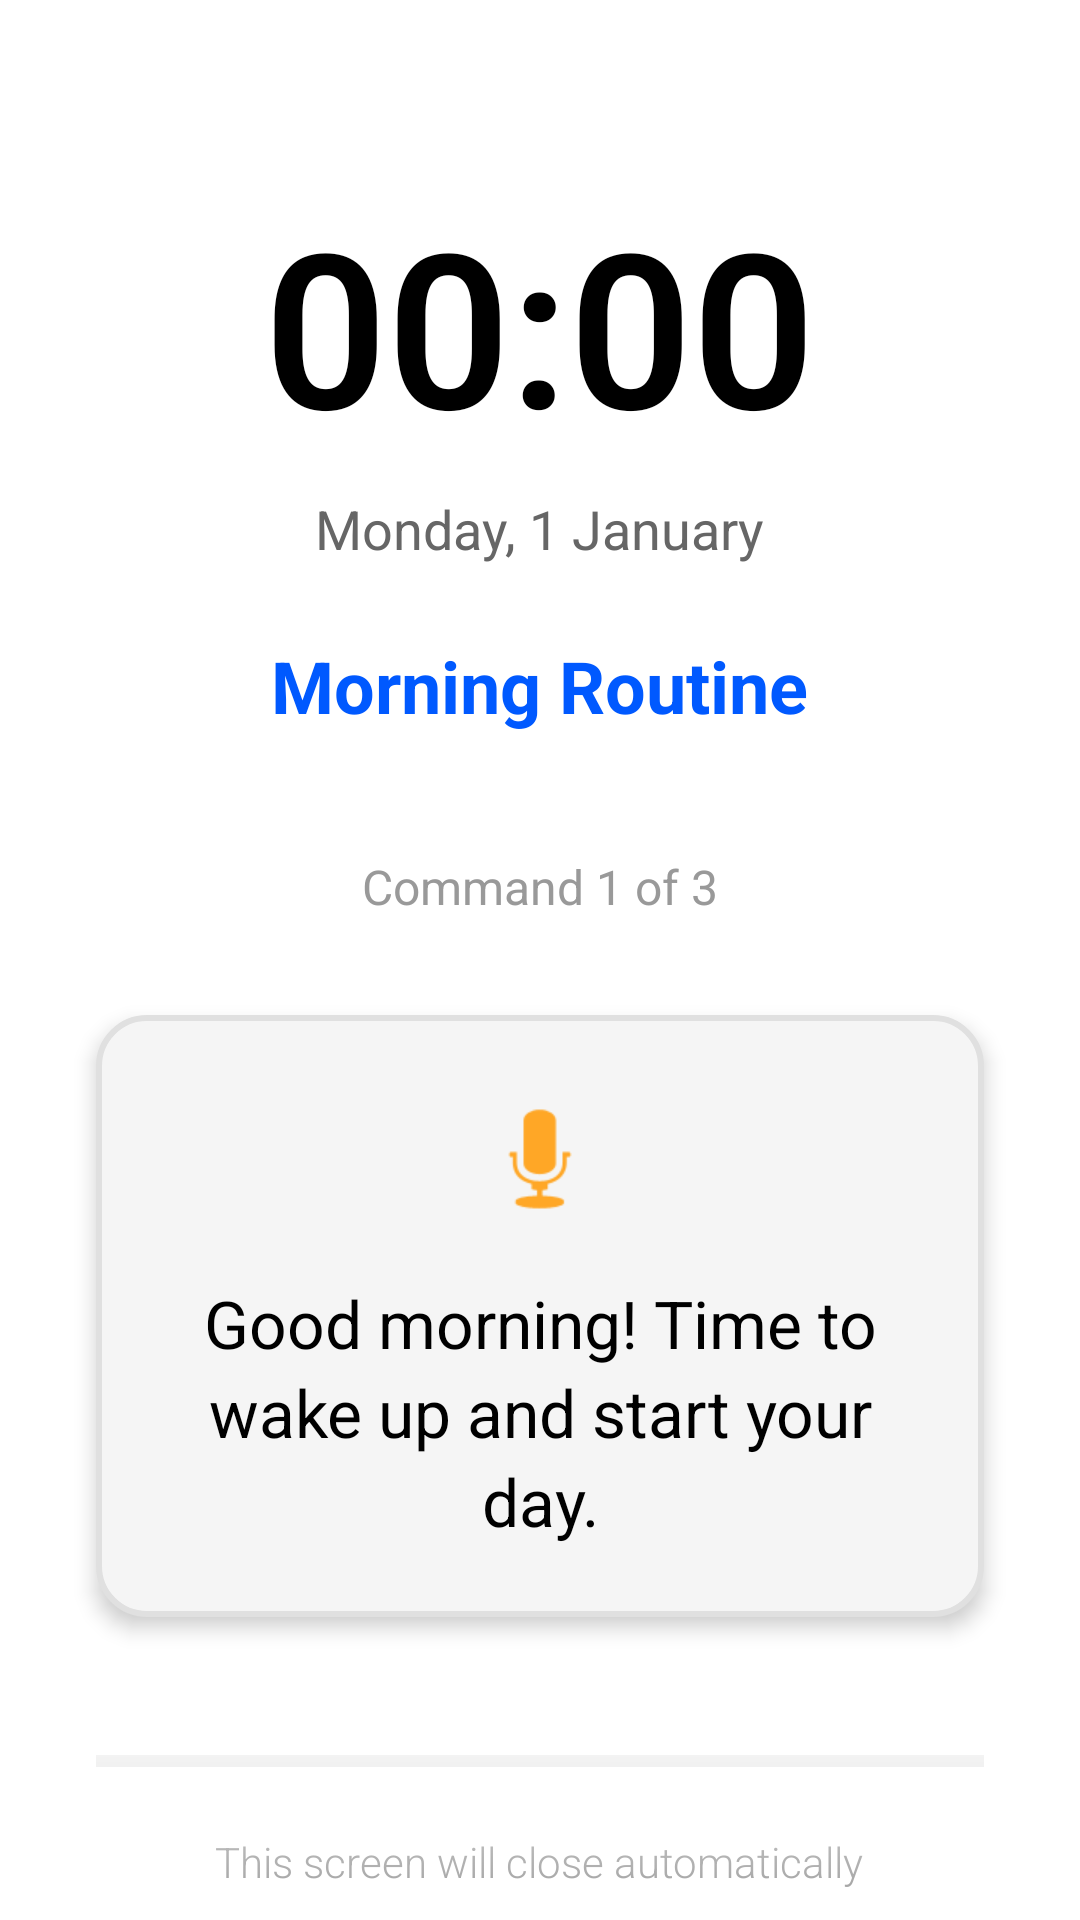

Screen size 1080*1920. Icon name, then its center in pixels as (x=x, y=y):
speak now: (x=540, y=1159)
